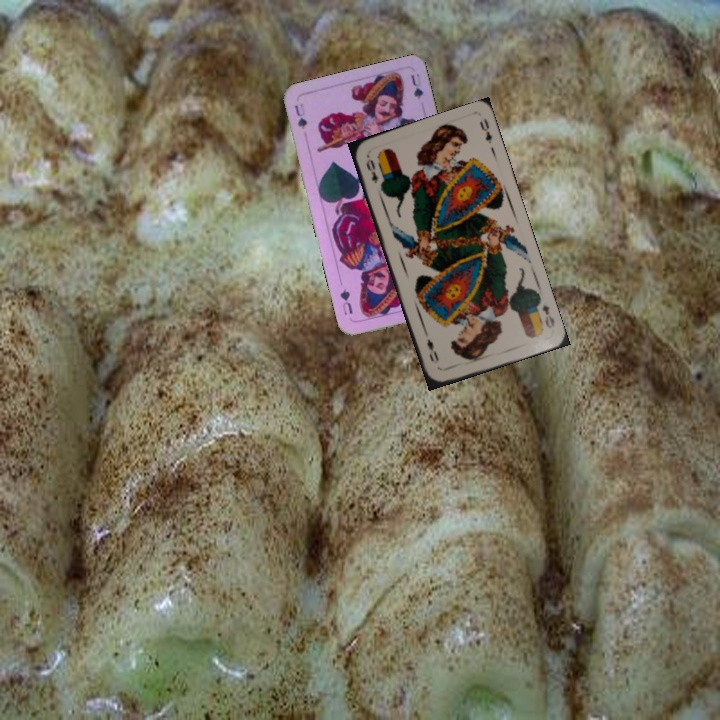EO: (362, 152, 381, 186), (538, 301, 557, 331)
GU: (291, 99, 310, 132)
